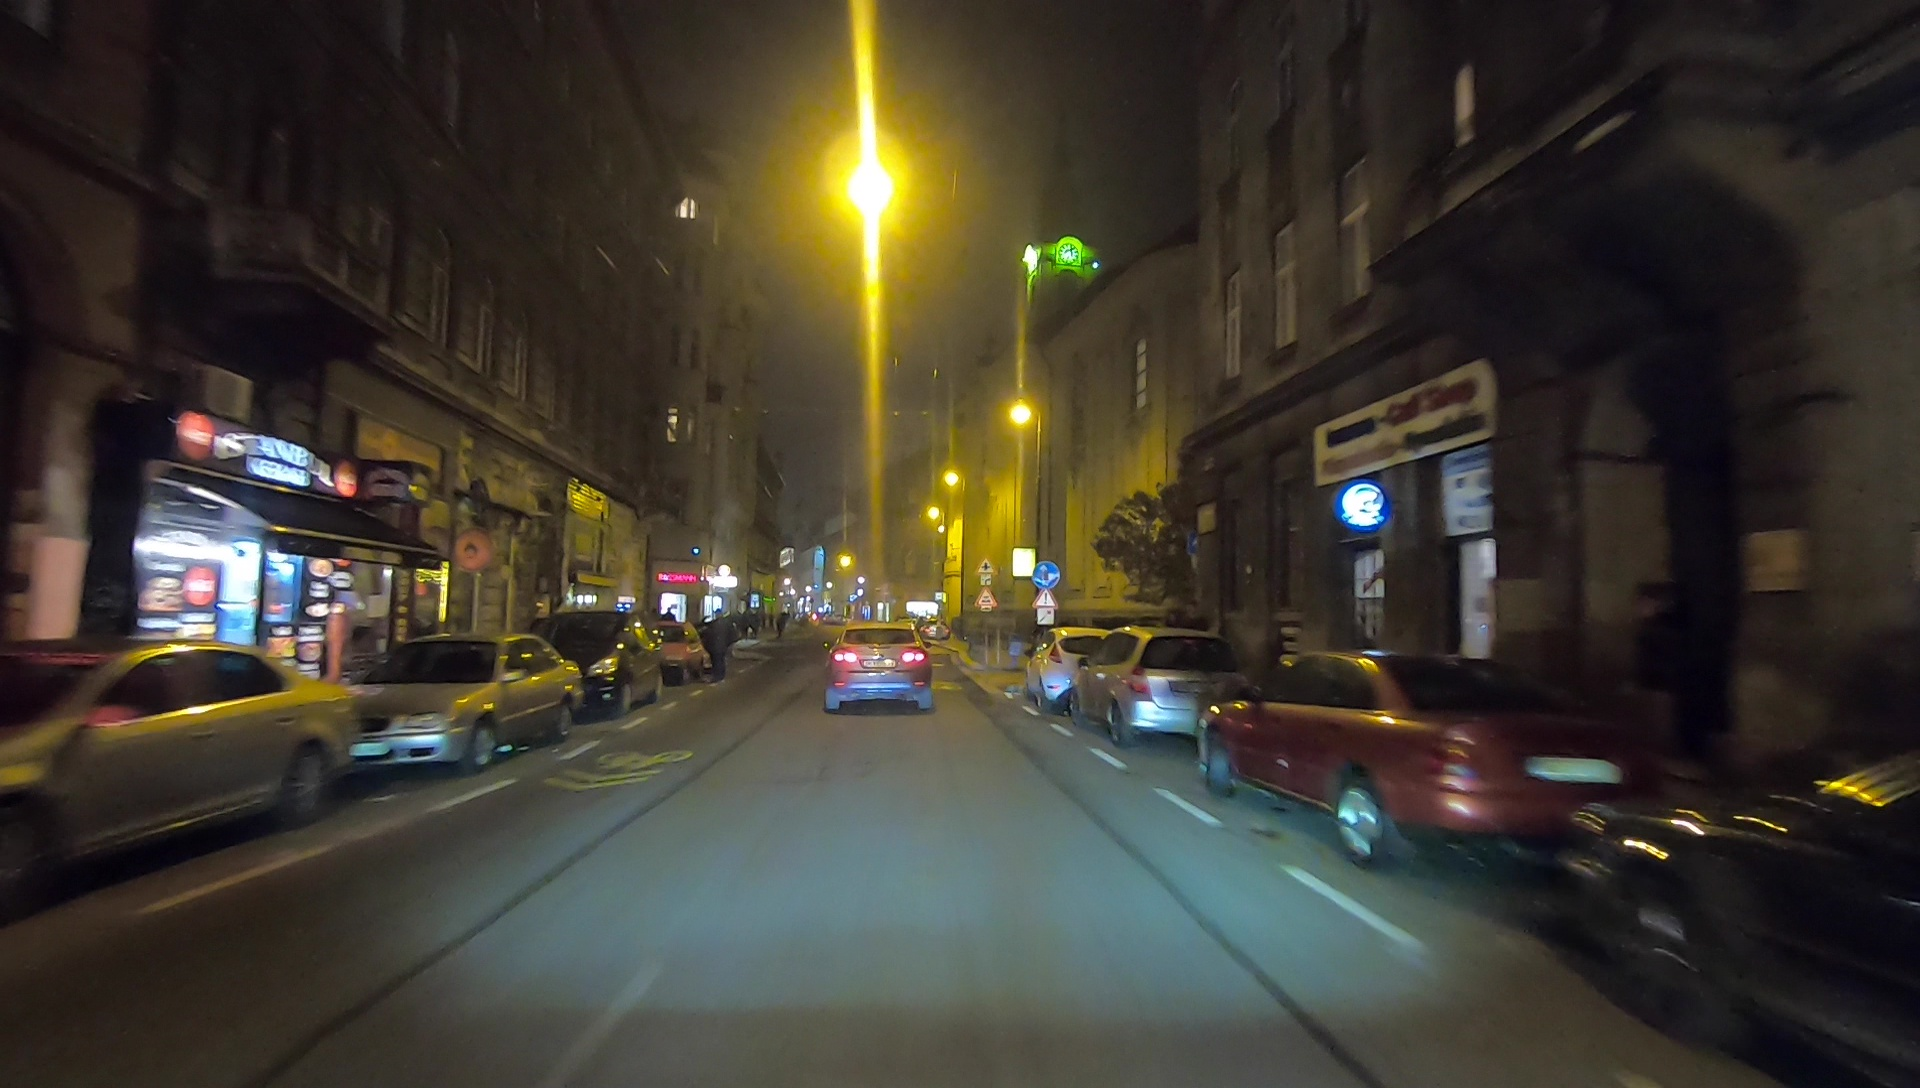person: (706, 604, 730, 680)
